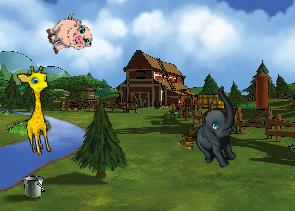elephant: (176, 85, 261, 174)
giraffe: (15, 63, 62, 157)
pig: (42, 10, 95, 61)
